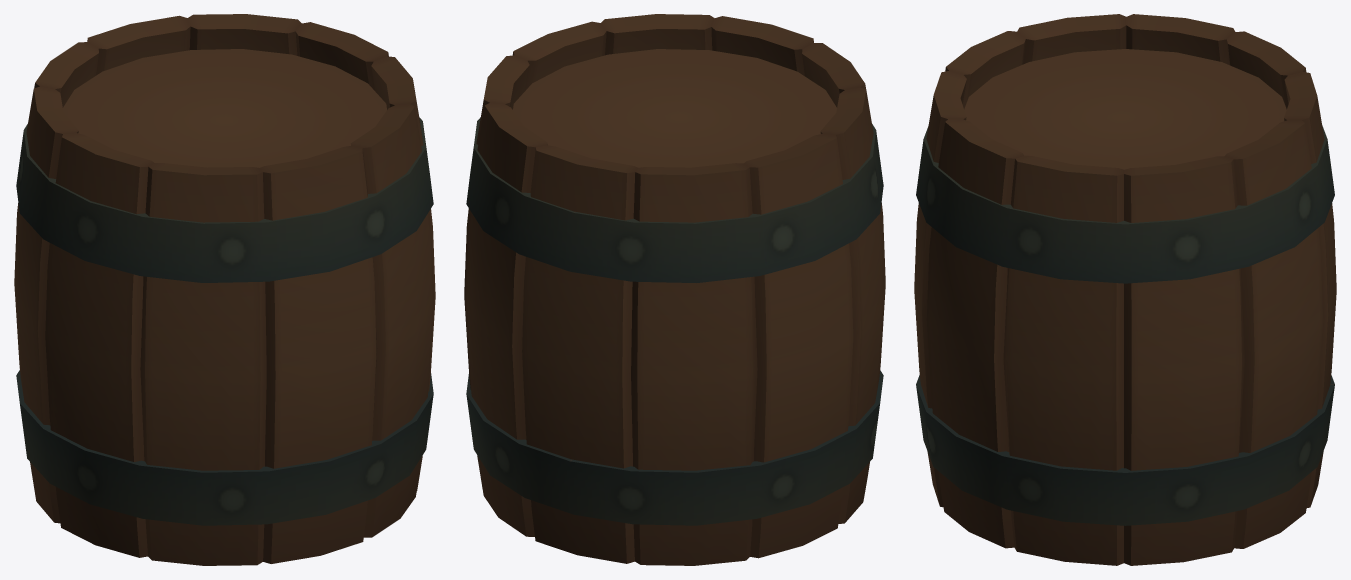
Rendered from Barrel.fbx.
The picture shows the model from 3 angles, left to right: view 1: azimuth 30°, elevation 25°; view 2: azimuth 150°, elevation 25°; view 3: azimuth 270°, elevation 25°; orthographic projection.
Parts seen in each view (by area): view 1: Barrel, Lid; view 2: Barrel, Lid; view 3: Barrel, Lid.
Boxes of the visible parts, box(x1,y1,x2,y2) form: Barrel: box(14, 14, 435, 565); Lid: box(63, 49, 386, 167); Barrel: box(464, 14, 885, 565); Lid: box(513, 49, 836, 167); Barrel: box(914, 14, 1336, 565); Lid: box(964, 49, 1286, 169).
Size of the model in its own units: 2.08 by 2.12 by 2.09.
Materials: 1 (1 with a texture image).
